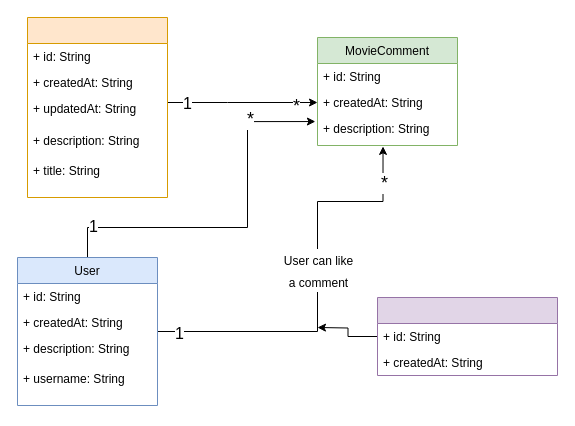
This 575x426 diagram has some shape labels left out. The shapes that lost their labels are listed below. From the top down, each one's box as (x1, y1, x2, y2) in pixels, then its label:
(26, 16, 168, 198): Movie
(376, 296, 558, 376): MovieCommentLike
